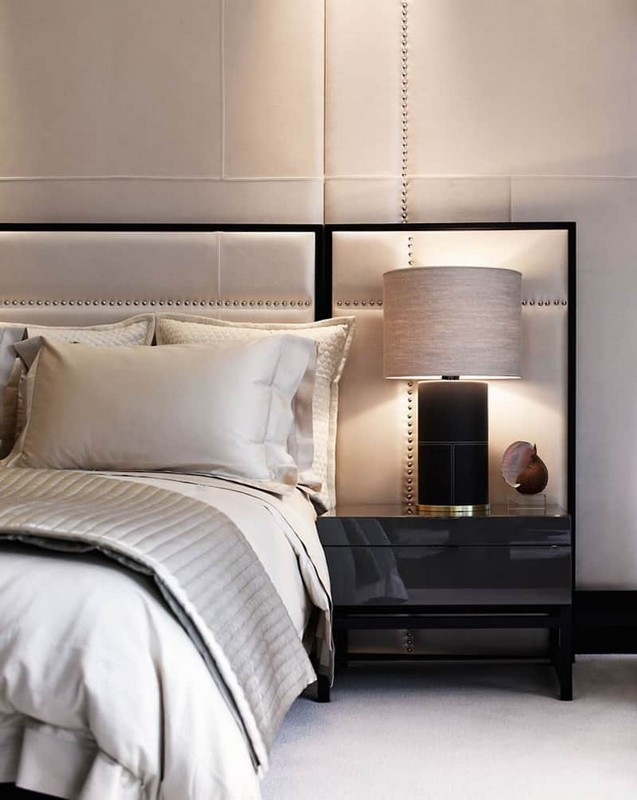bed: (2, 255, 336, 790)
lamp: (379, 264, 521, 513)
stool: (318, 502, 579, 707)
